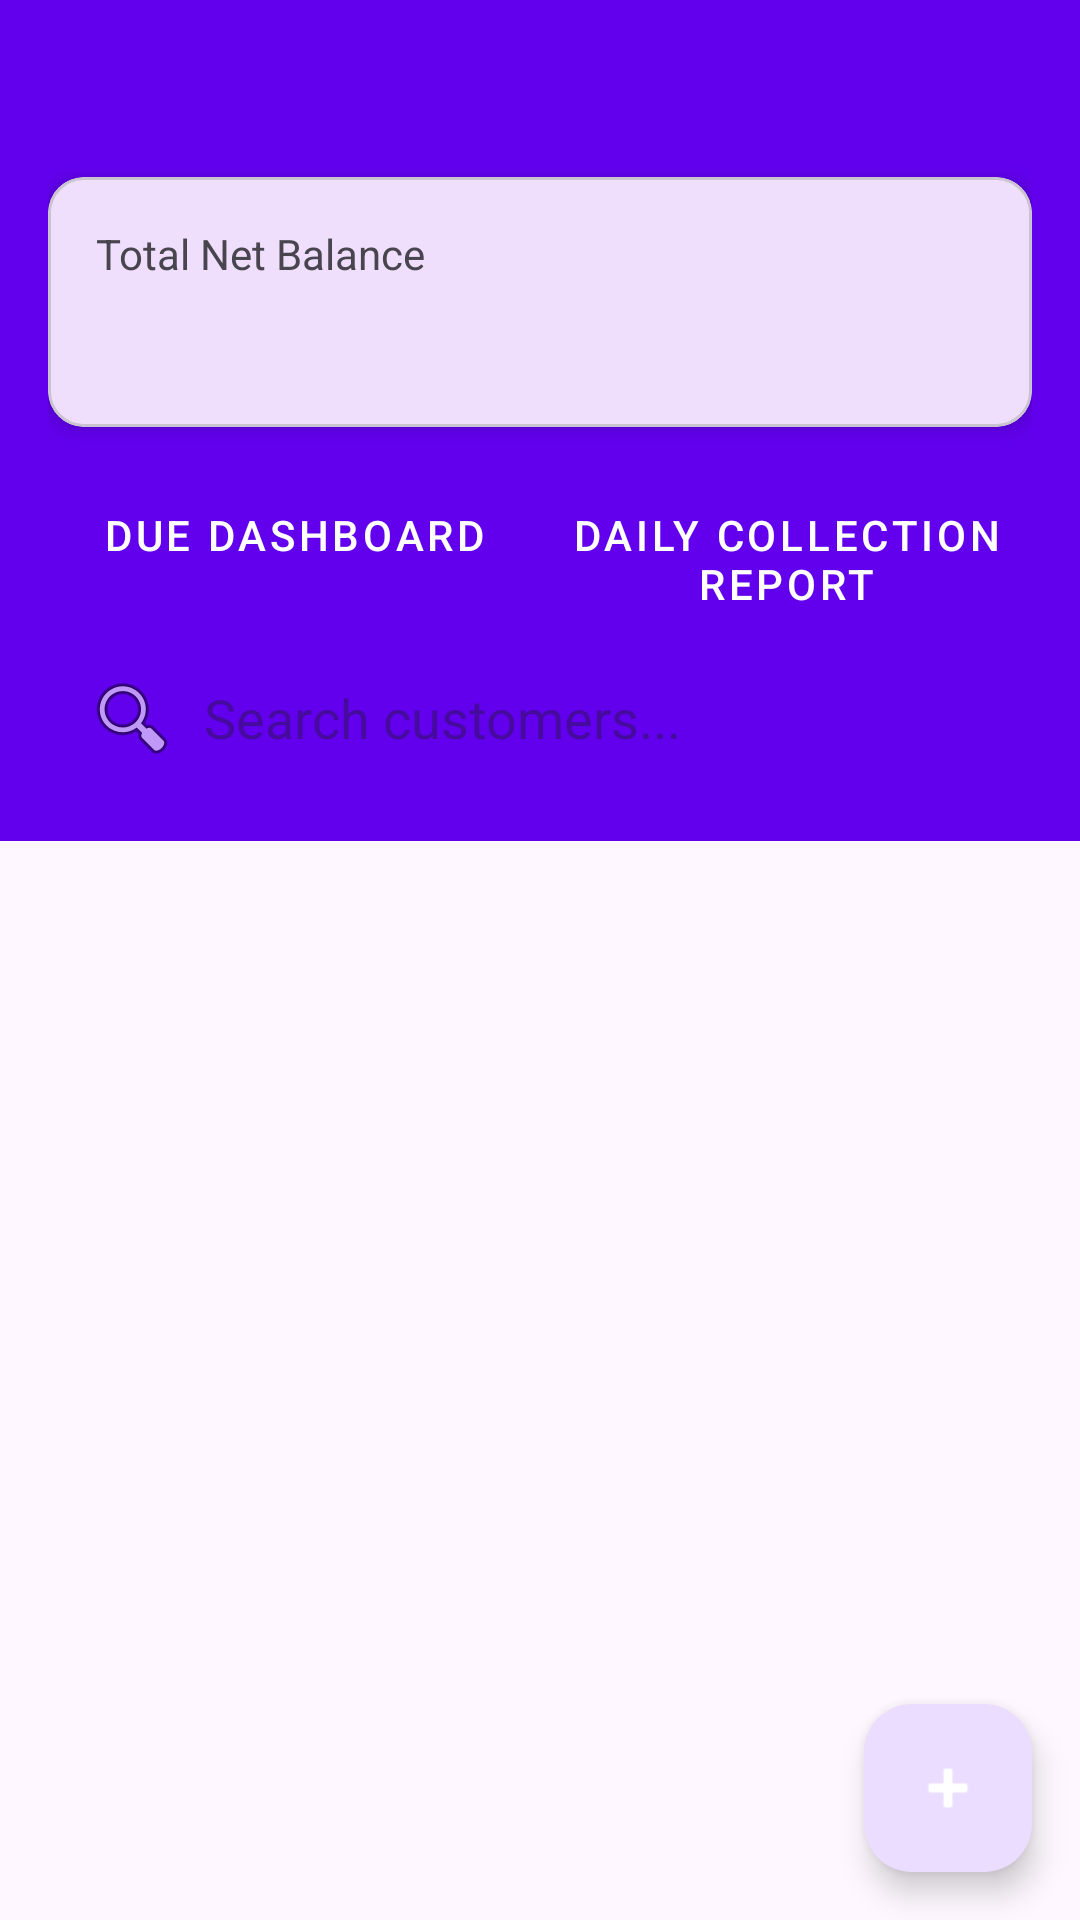

Named icons in this screenshot (1080*1920) and their bounding boxes, detection(x1, y1, x2, y2):
Add Customer: detection(864, 1704, 1032, 1872)
